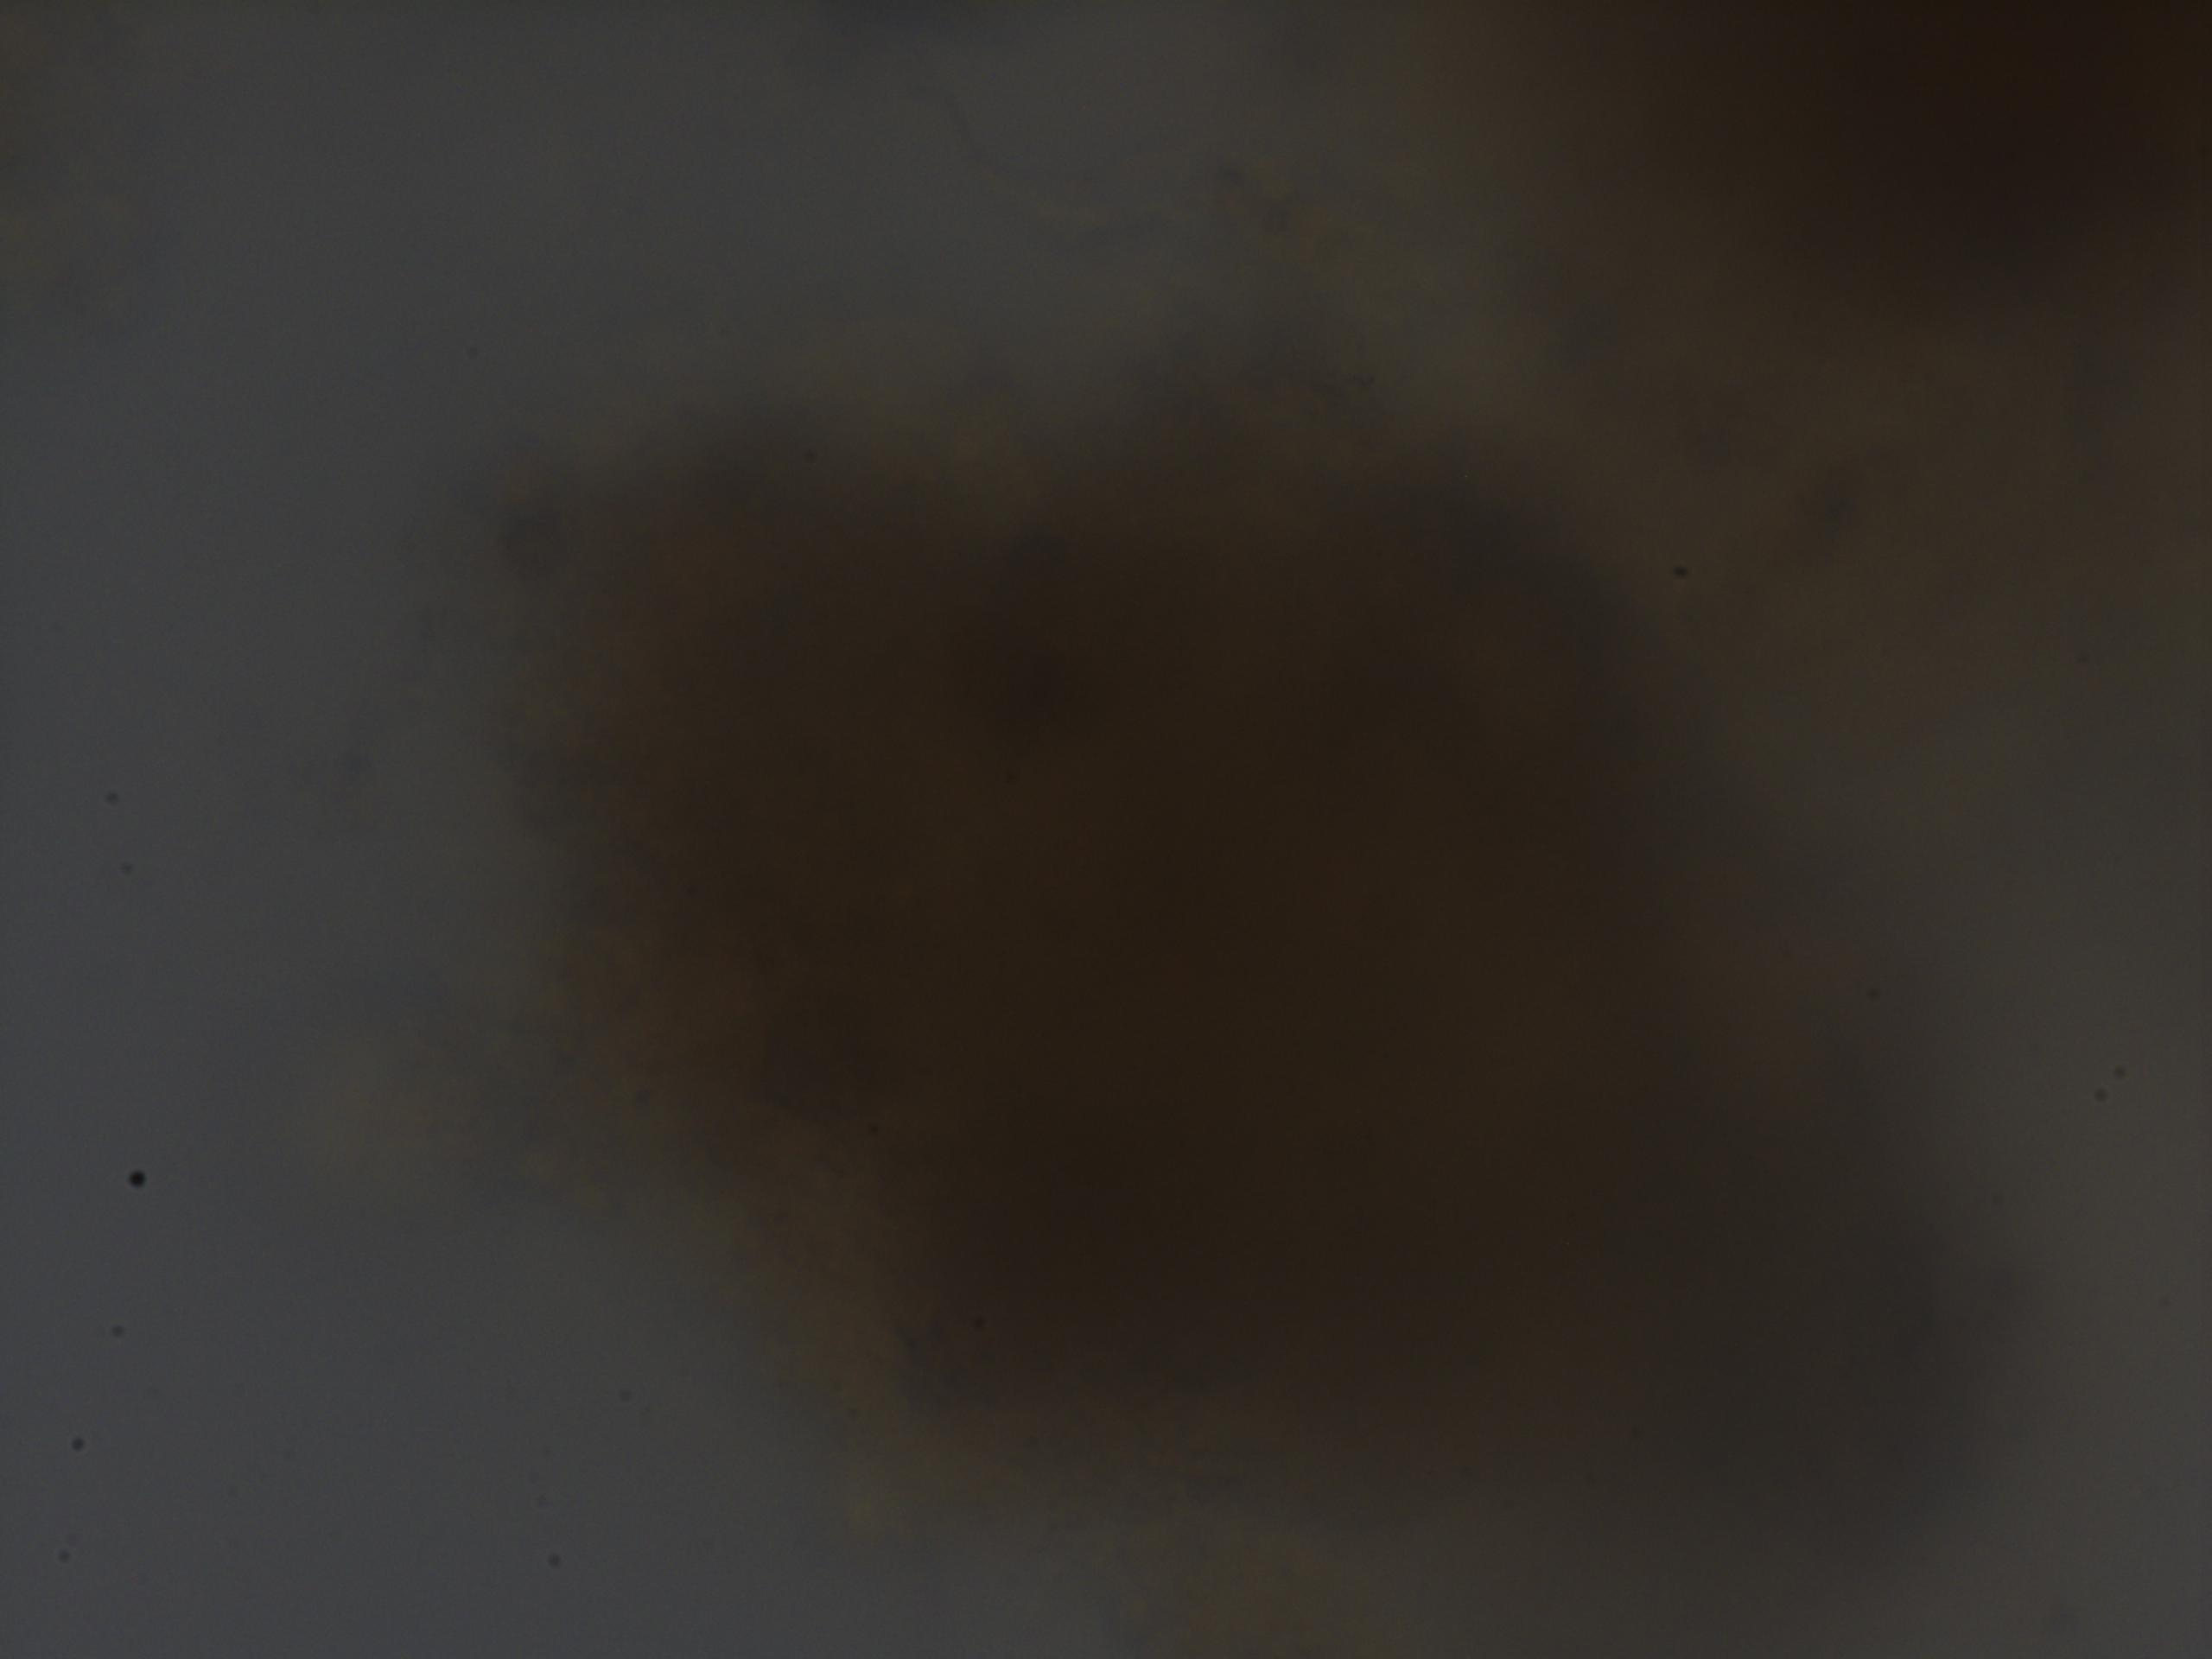spherical_floc: (463, 349, 2001, 1567)
